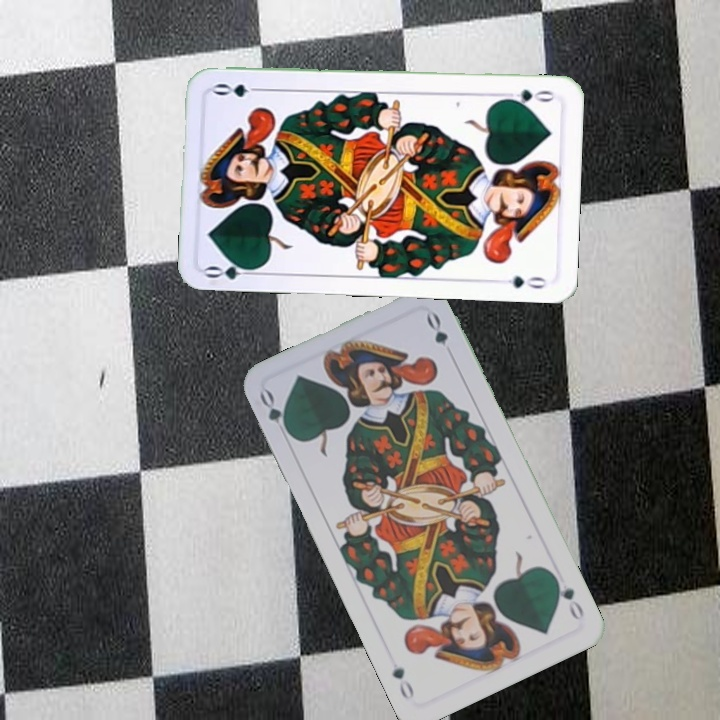GO: (255, 386, 295, 440), (549, 570, 587, 623), (202, 256, 261, 282), (499, 85, 558, 108)
